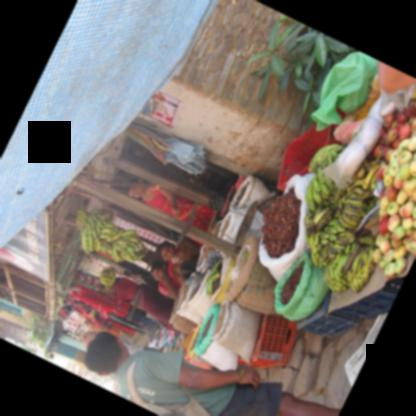backpack: (138, 393, 211, 416)
